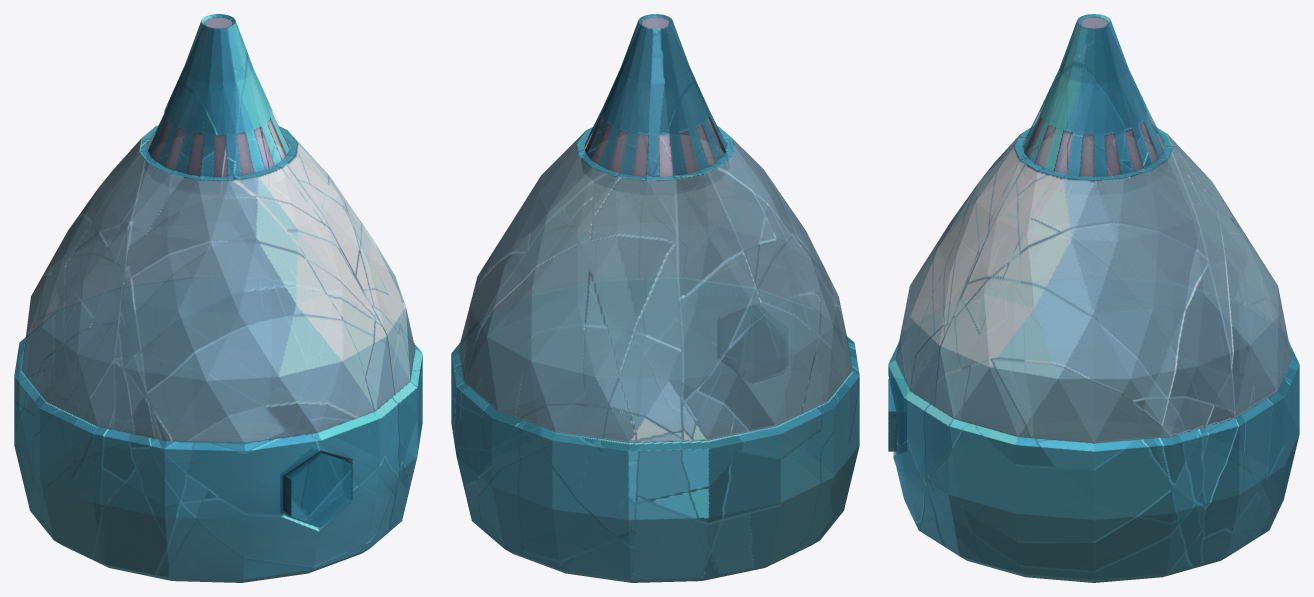
Rendered from MD_AirPurifier.fbx.
3 renders of one model, left to right at view 1: azimuth 30°, elevation 25°; view 2: azimuth 150°, elevation 25°; view 3: azimuth 270°, elevation 25°, orthographic.
Parts seen in each view (by area): view 1: pCylinder43; view 2: pCylinder43; view 3: pCylinder43.
Boxes of the visible parts, bbox=[...] form: pCylinder43: bbox=[14, 14, 422, 582]; pCylinder43: bbox=[451, 14, 859, 582]; pCylinder43: bbox=[888, 14, 1299, 582].
Size of the model in its own units: 79.97 by 105 by 79.98.
